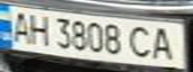0: (84, 19, 106, 54)
3: (51, 15, 72, 51)
8: (103, 20, 127, 56), (66, 17, 87, 52)
A: (148, 24, 184, 62), (6, 8, 33, 44)
C: (124, 24, 157, 60)
H: (24, 11, 51, 47)
